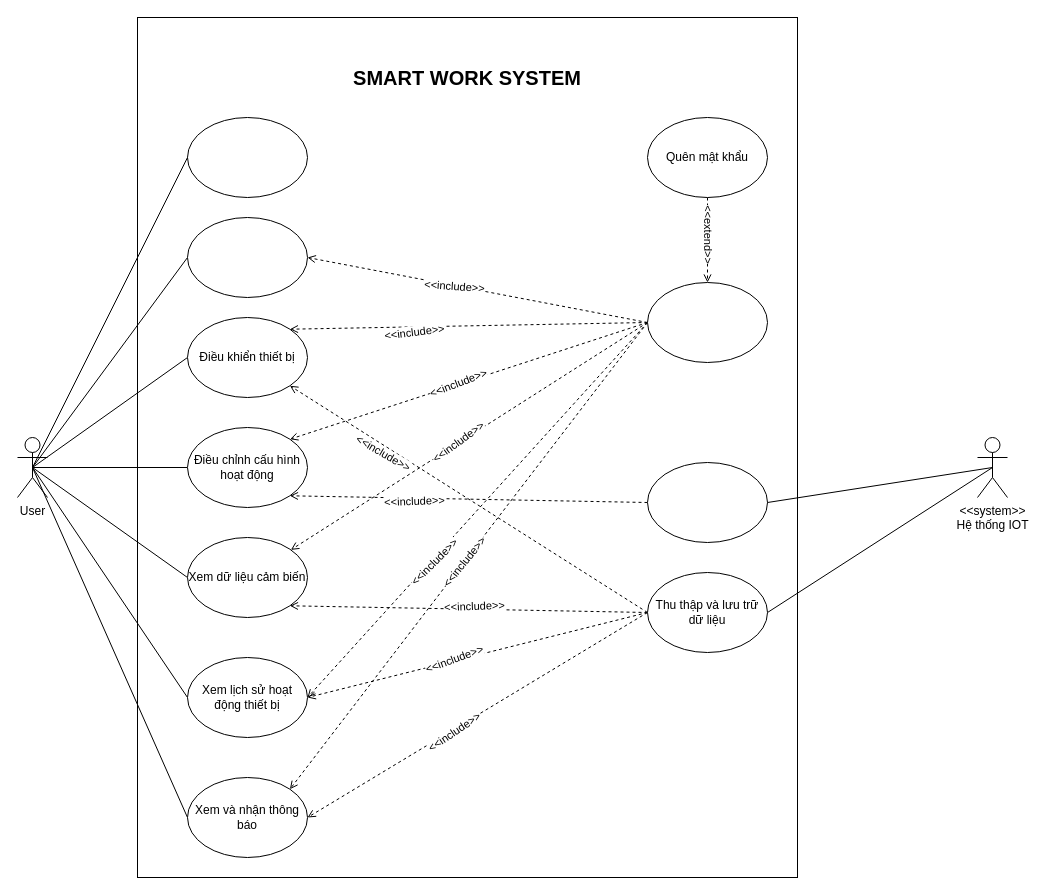
This 1046x895 diagram has some shape labels left out. Here are the shapes that lost their labels. From the top down, the centre of each, then its label:
point (247, 157): Đăng kí
point (247, 257): Quản lý phòng
point (707, 322): Đăng nhập
point (707, 502): Hệ thống tự động điều chỉnh
